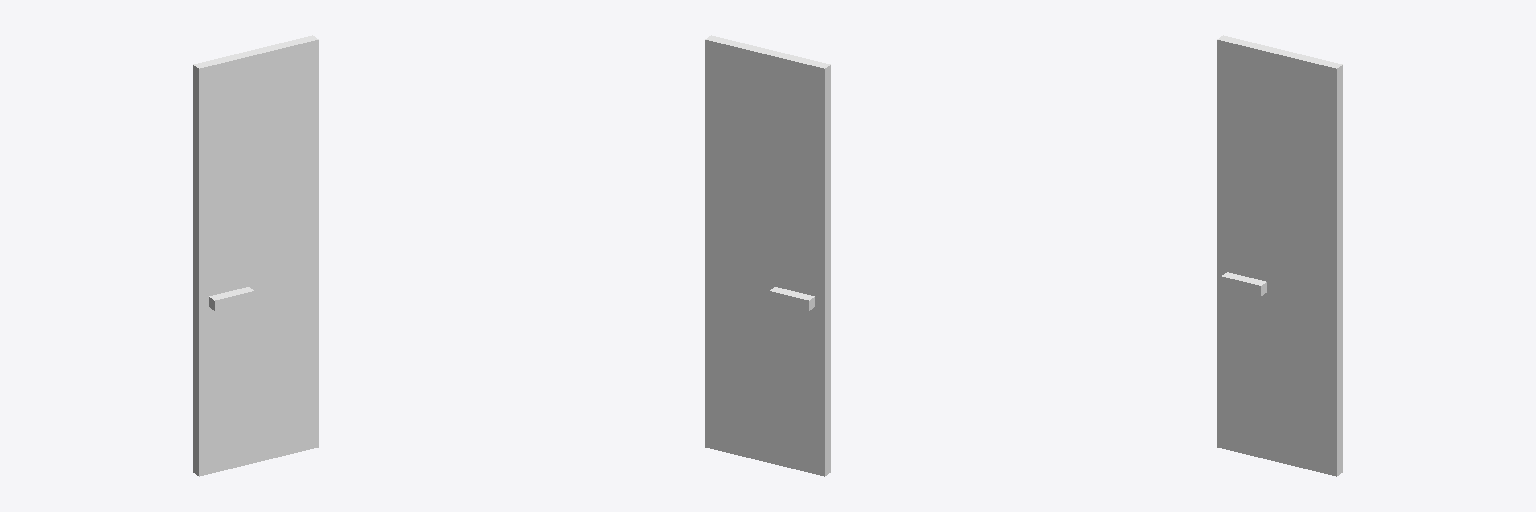
The model's file is WallsSimpleV1Door.obj.
3 views of the same model, side by side, from view 1: azimuth 30°, elevation 25°; view 2: azimuth 150°, elevation 25°; view 3: azimuth 330°, elevation 25° (orthographic).
Parts seen in each view (by area): view 1: object 1; view 2: object 1; view 3: object 1.
Part boxes in pixels (left/top/right/bottom): object 1: left=193, top=35, right=318, bottom=476; object 1: left=705, top=35, right=830, bottom=476; object 1: left=1217, top=35, right=1342, bottom=476.
Bounding box in the file's own units: 1.2 × 3.9 × 0.3.